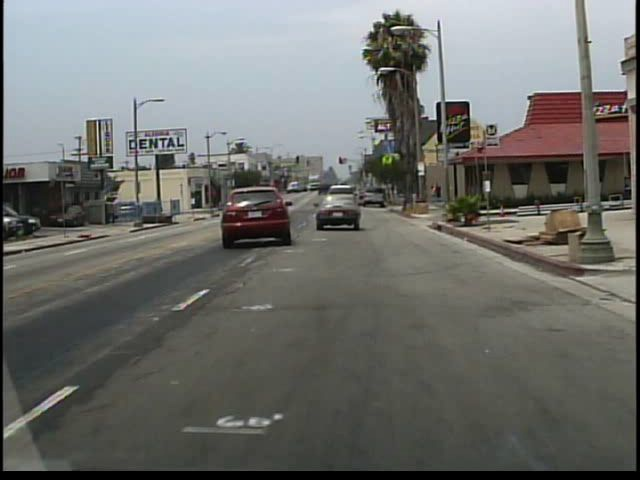person: (435, 181, 443, 201), (429, 183, 436, 204)
